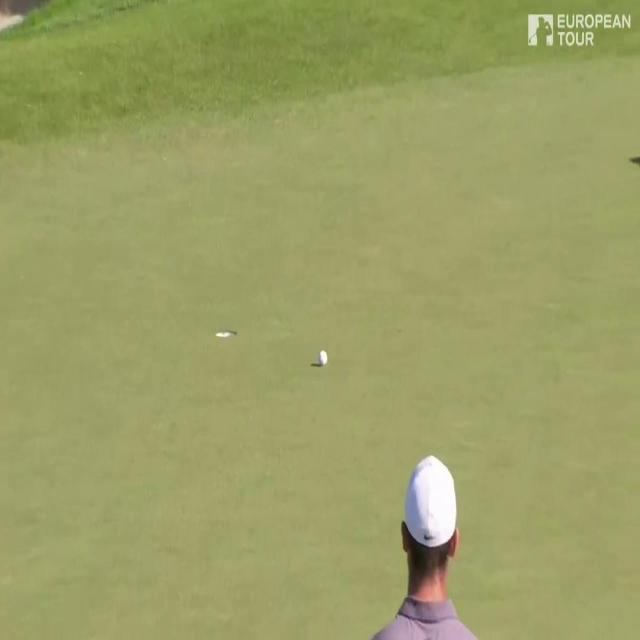GolfBall: (312, 342, 330, 372)
